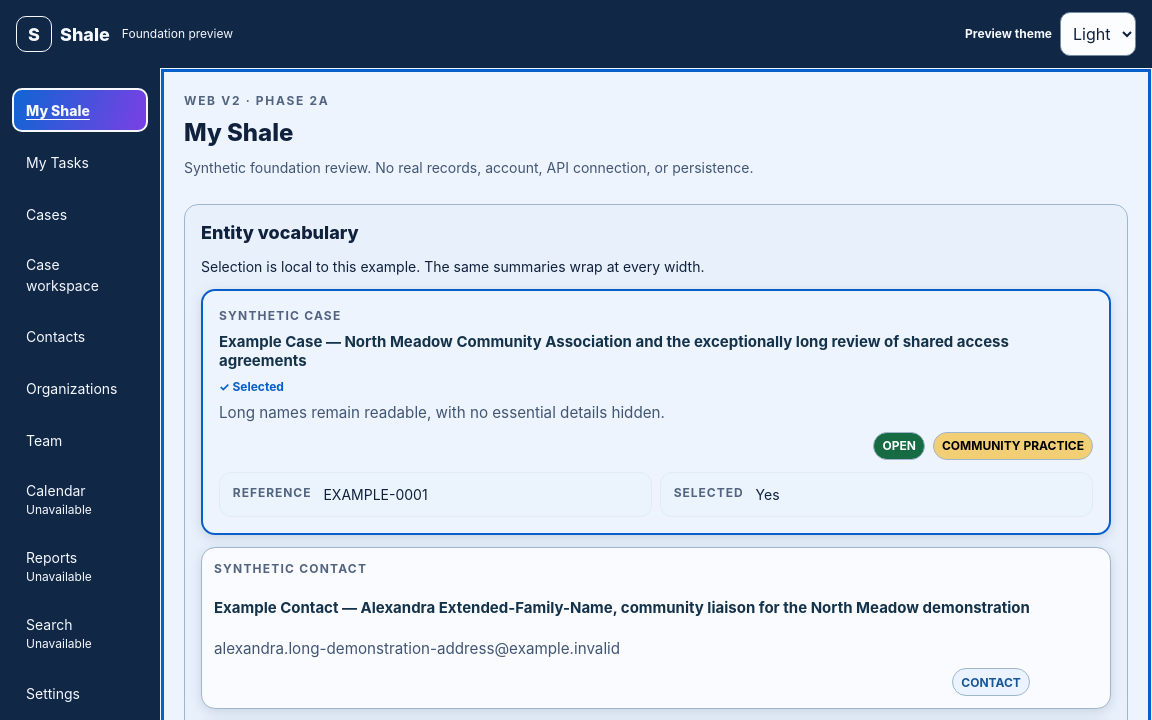
Test: isolated synthetic foundation › keeps Cases reachable and exposes the active destination without color
Click the link "Cases" at [46, 214], box [26, 206, 67, 222]
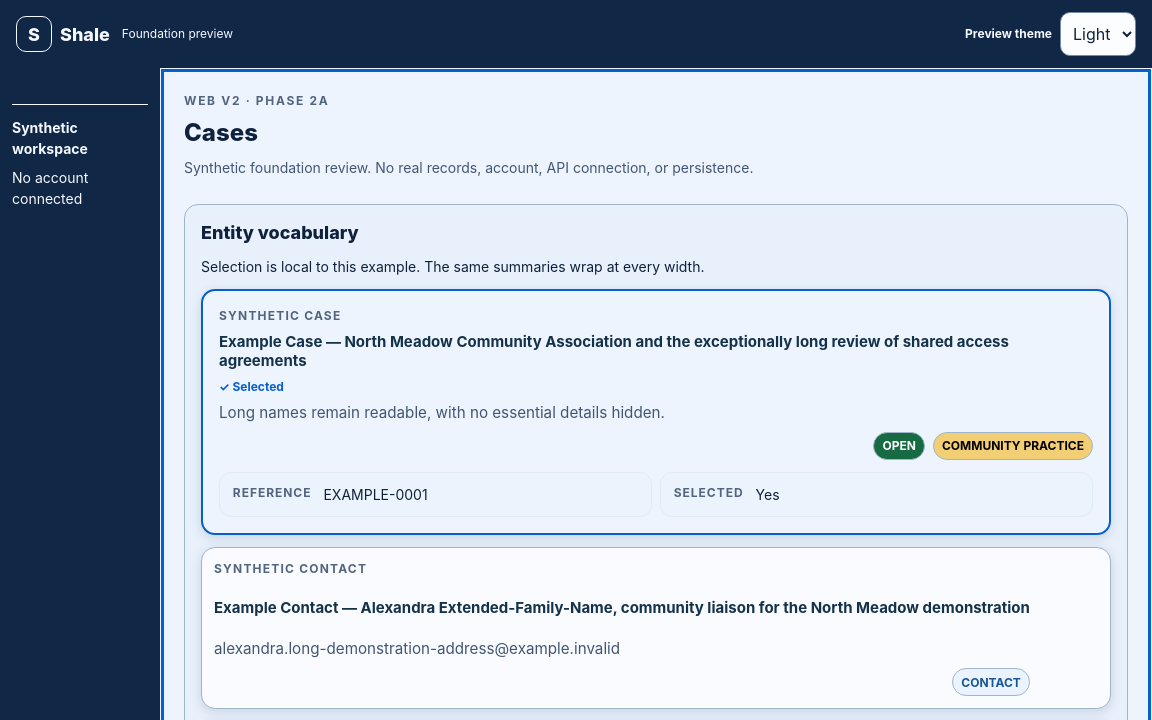
Expected: the heading "Cases" is shown, [184, 118, 258, 147]
